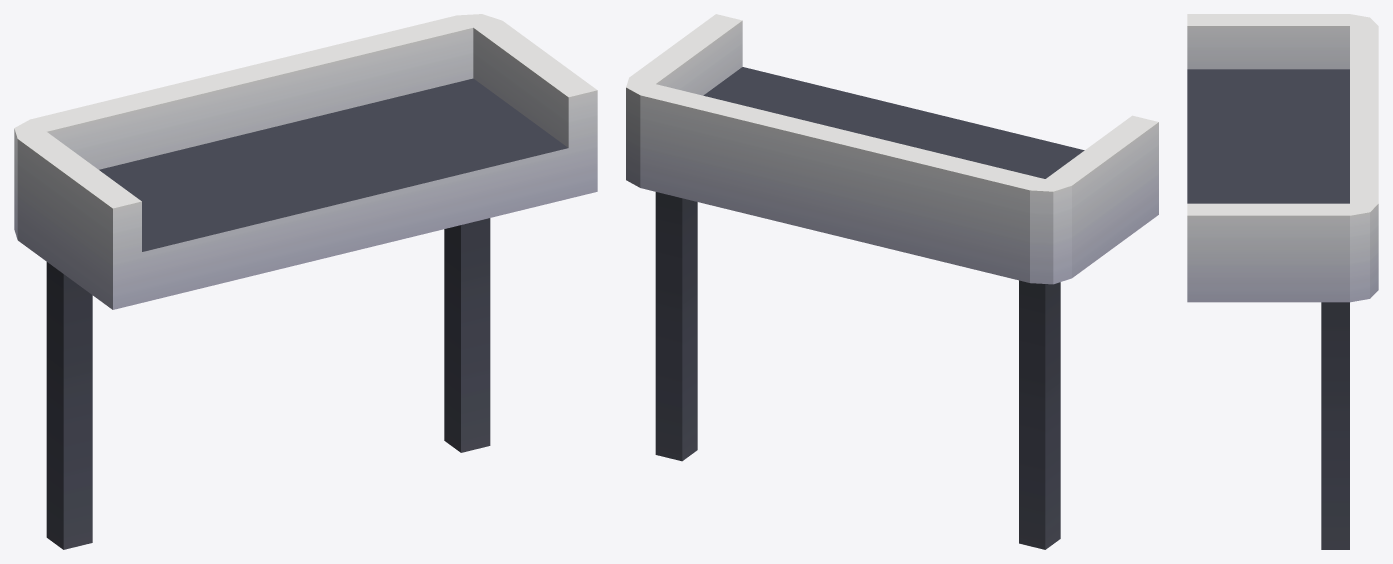
File: commercial__detail-overhang.glb
3 renders of one model, left to right at view 1: azimuth 30°, elevation 25°; view 2: azimuth 150°, elevation 25°; view 3: azimuth 270°, elevation 25°, orthographic. The views are drawn at different scales.
Parts seen in each view (by area): view 1: detail-overhang; view 2: detail-overhang; view 3: detail-overhang.
Boxes of the visible parts, left/top/right/bottom form: detail-overhang: left=14, top=14, right=597, bottom=549; detail-overhang: left=626, top=14, right=1158, bottom=549; detail-overhang: left=1187, top=14, right=1378, bottom=549.
Bounding box in the file's own units: 0.5 × 0.4 × 0.2.
1 material, 1 textured.
